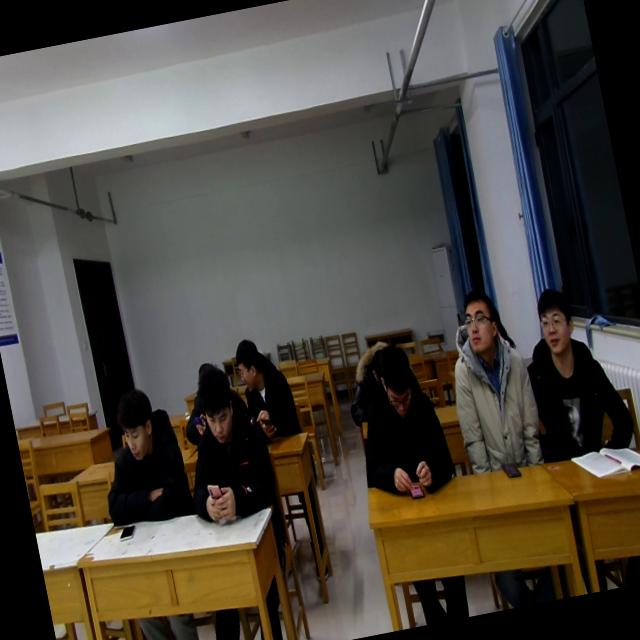bow: (338, 336, 408, 426)
down: (188, 354, 244, 451), (368, 334, 423, 426), (108, 383, 163, 466)
lookup: (528, 278, 582, 360), (454, 284, 507, 366)
sit: (510, 275, 639, 469), (433, 280, 548, 480), (168, 355, 284, 530), (342, 334, 457, 496), (84, 380, 194, 531), (230, 330, 304, 446)
